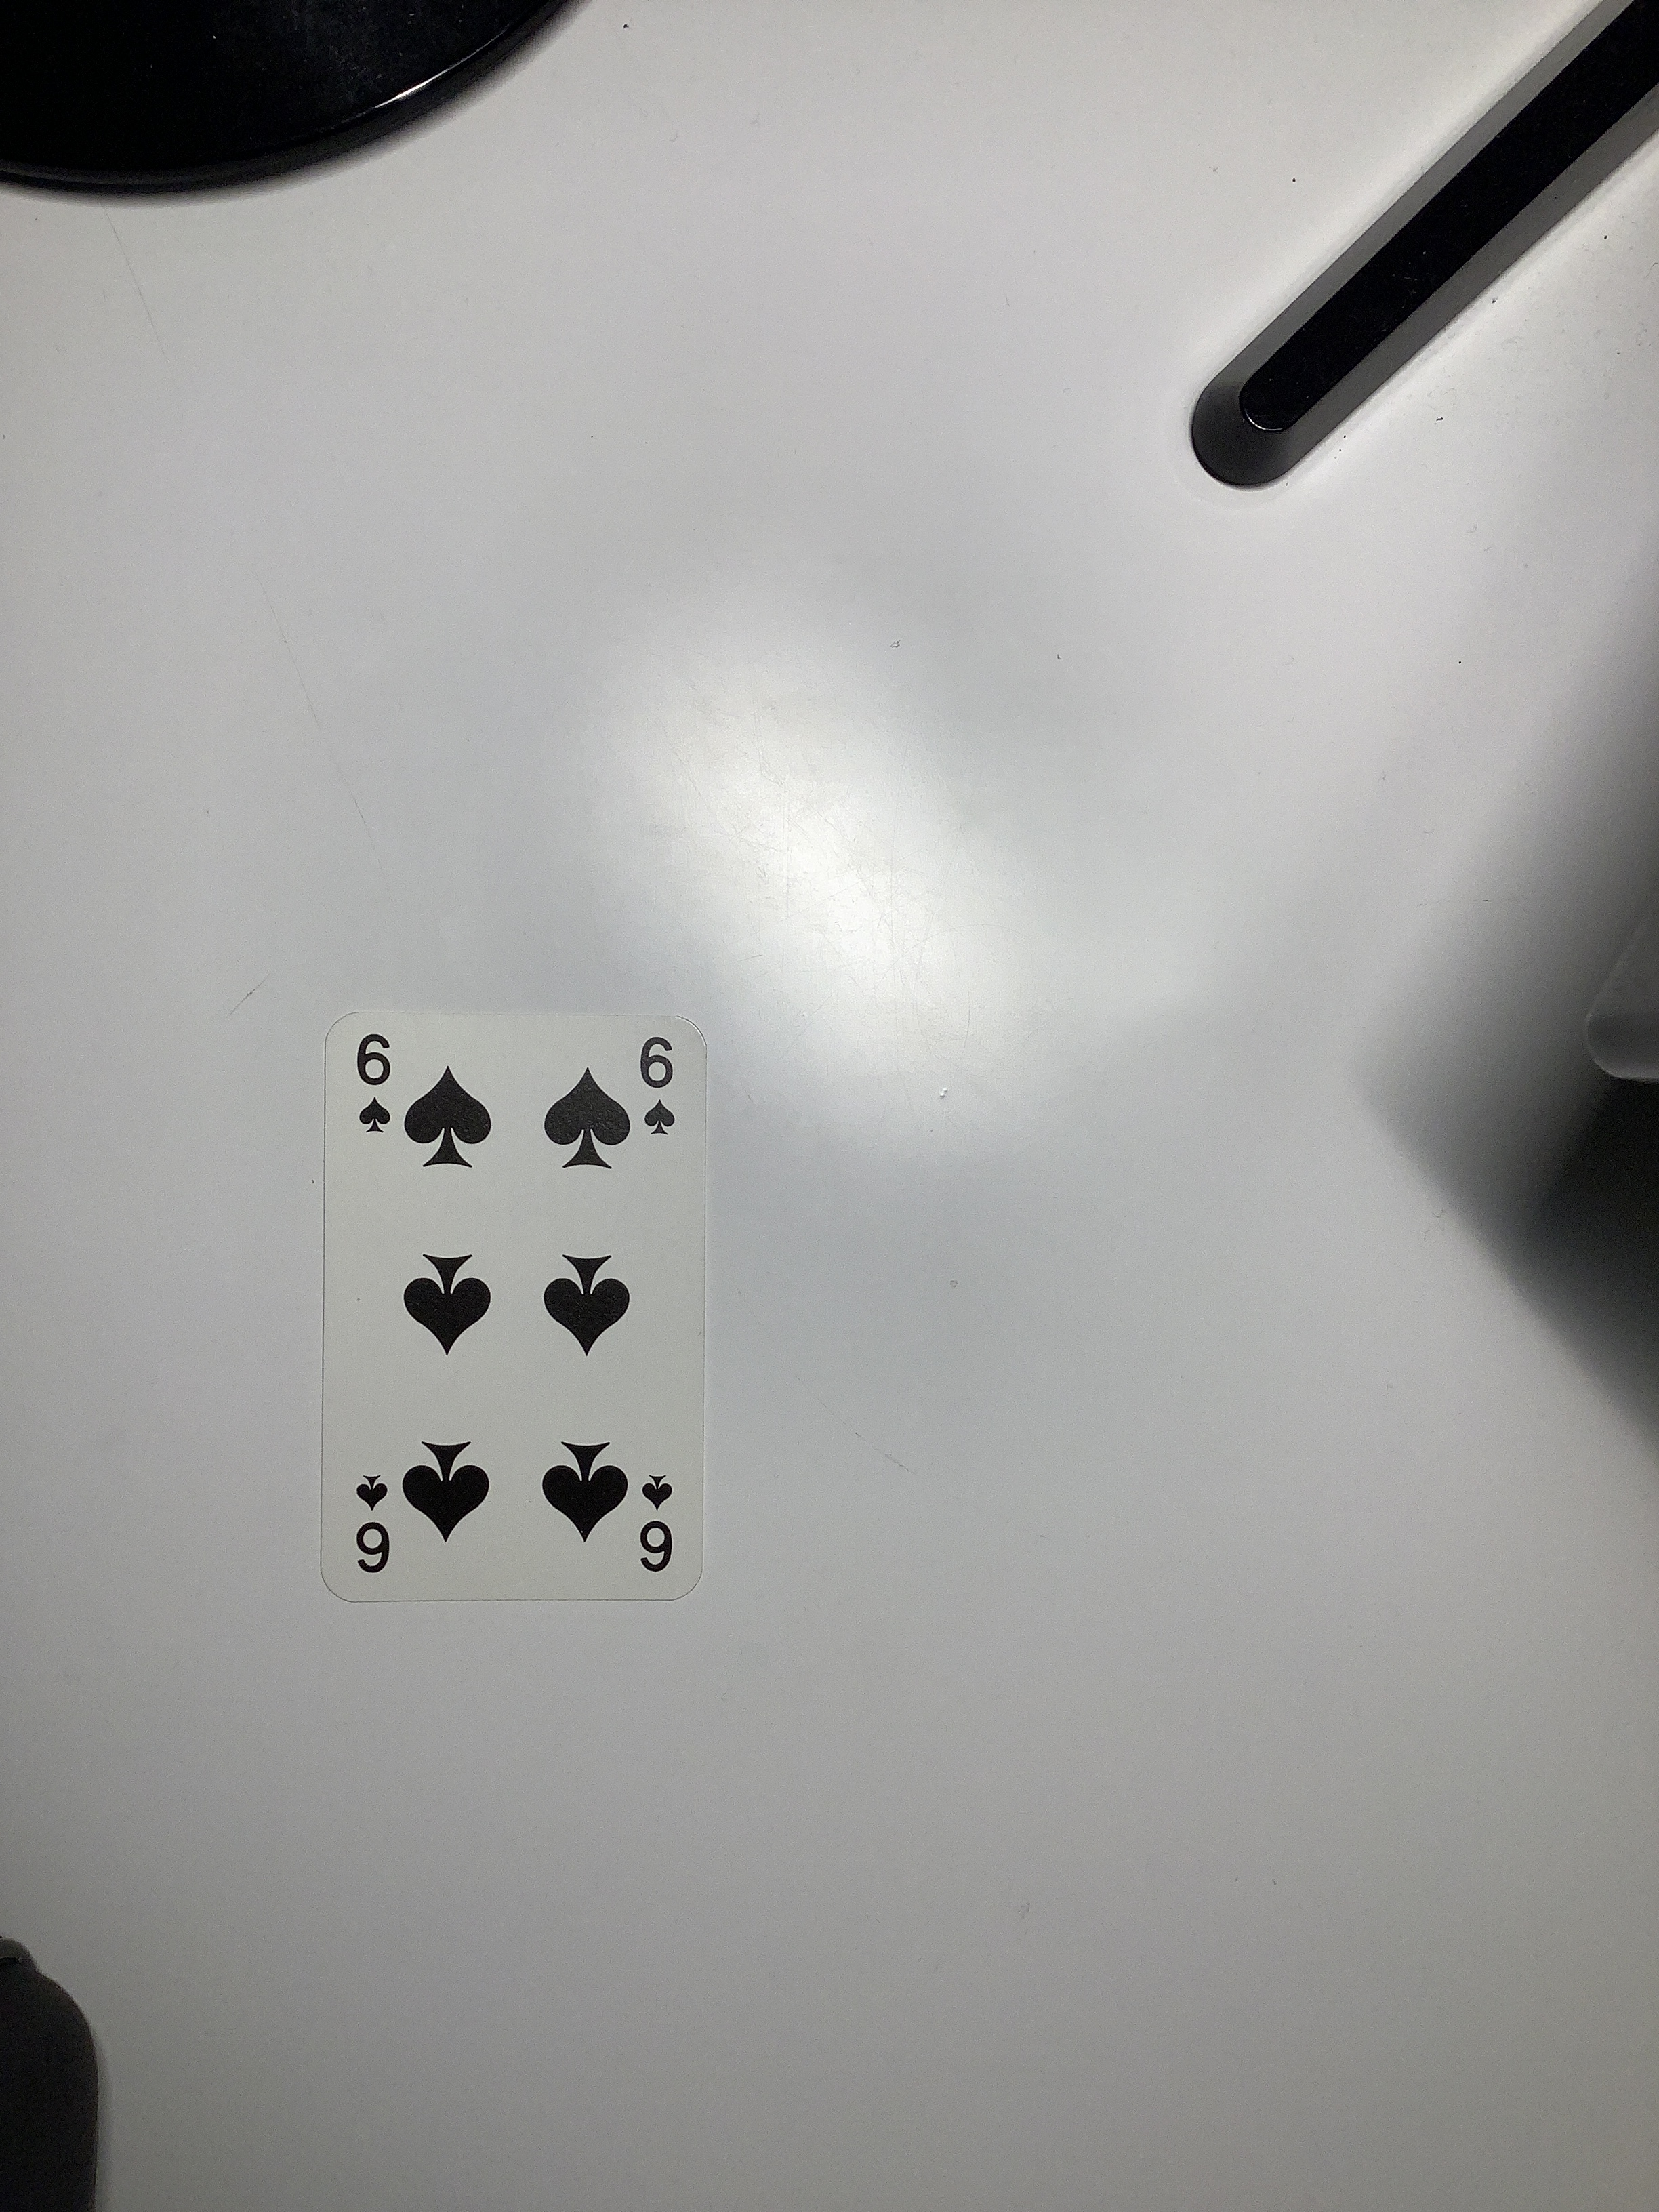♠ 6: (298, 989, 728, 1629)
